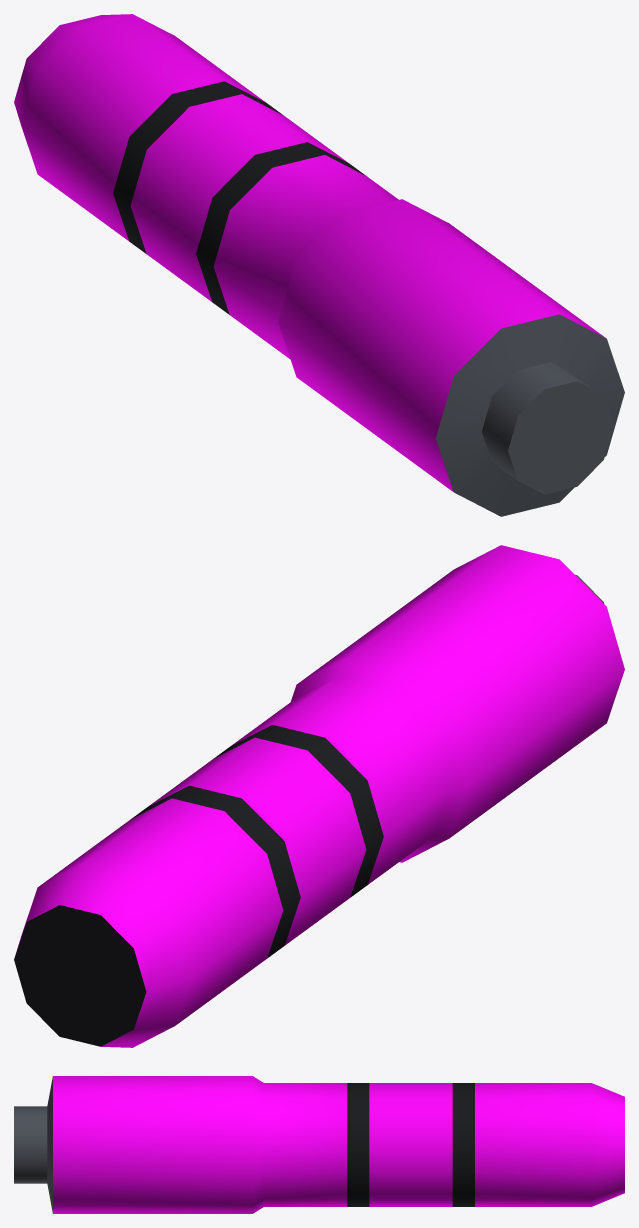
File: att_suppressor_large.glb
3 renders of one model, top to bottom at view 1: azimuth 30°, elevation 25°; view 2: azimuth 150°, elevation 25°; view 3: azimuth 270°, elevation 25°, orthographic. The views are drawn at different scales.
Parts seen in each view (by area): view 1: att_suppressor_large__body; view 2: att_suppressor_large__body; view 3: att_suppressor_large__body.
Part boxes in pixels (bbox=[...]): att_suppressor_large__body: bbox=[14, 14, 624, 516]; att_suppressor_large__body: bbox=[14, 545, 624, 1047]; att_suppressor_large__body: bbox=[14, 1076, 624, 1213].
Bounding box in the file's own units: 0.05 × 0.0476 × 0.22.
Materials: 1 (1 with a texture image).
